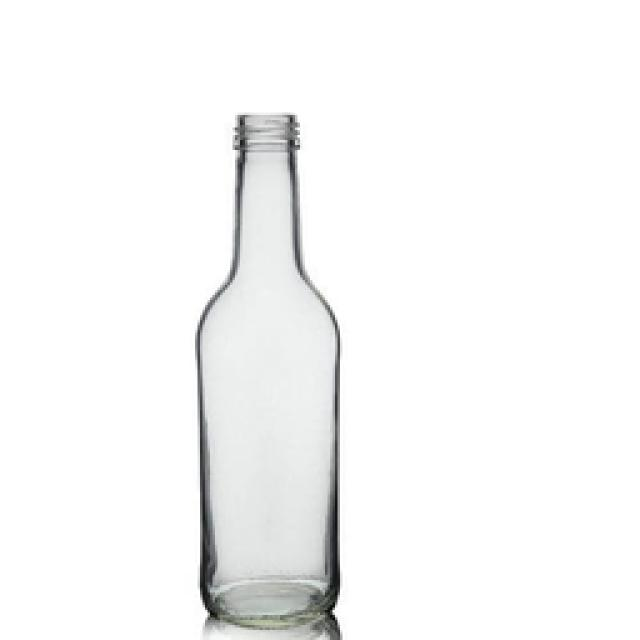glass_beverage_bottles: (195, 107, 337, 630)
